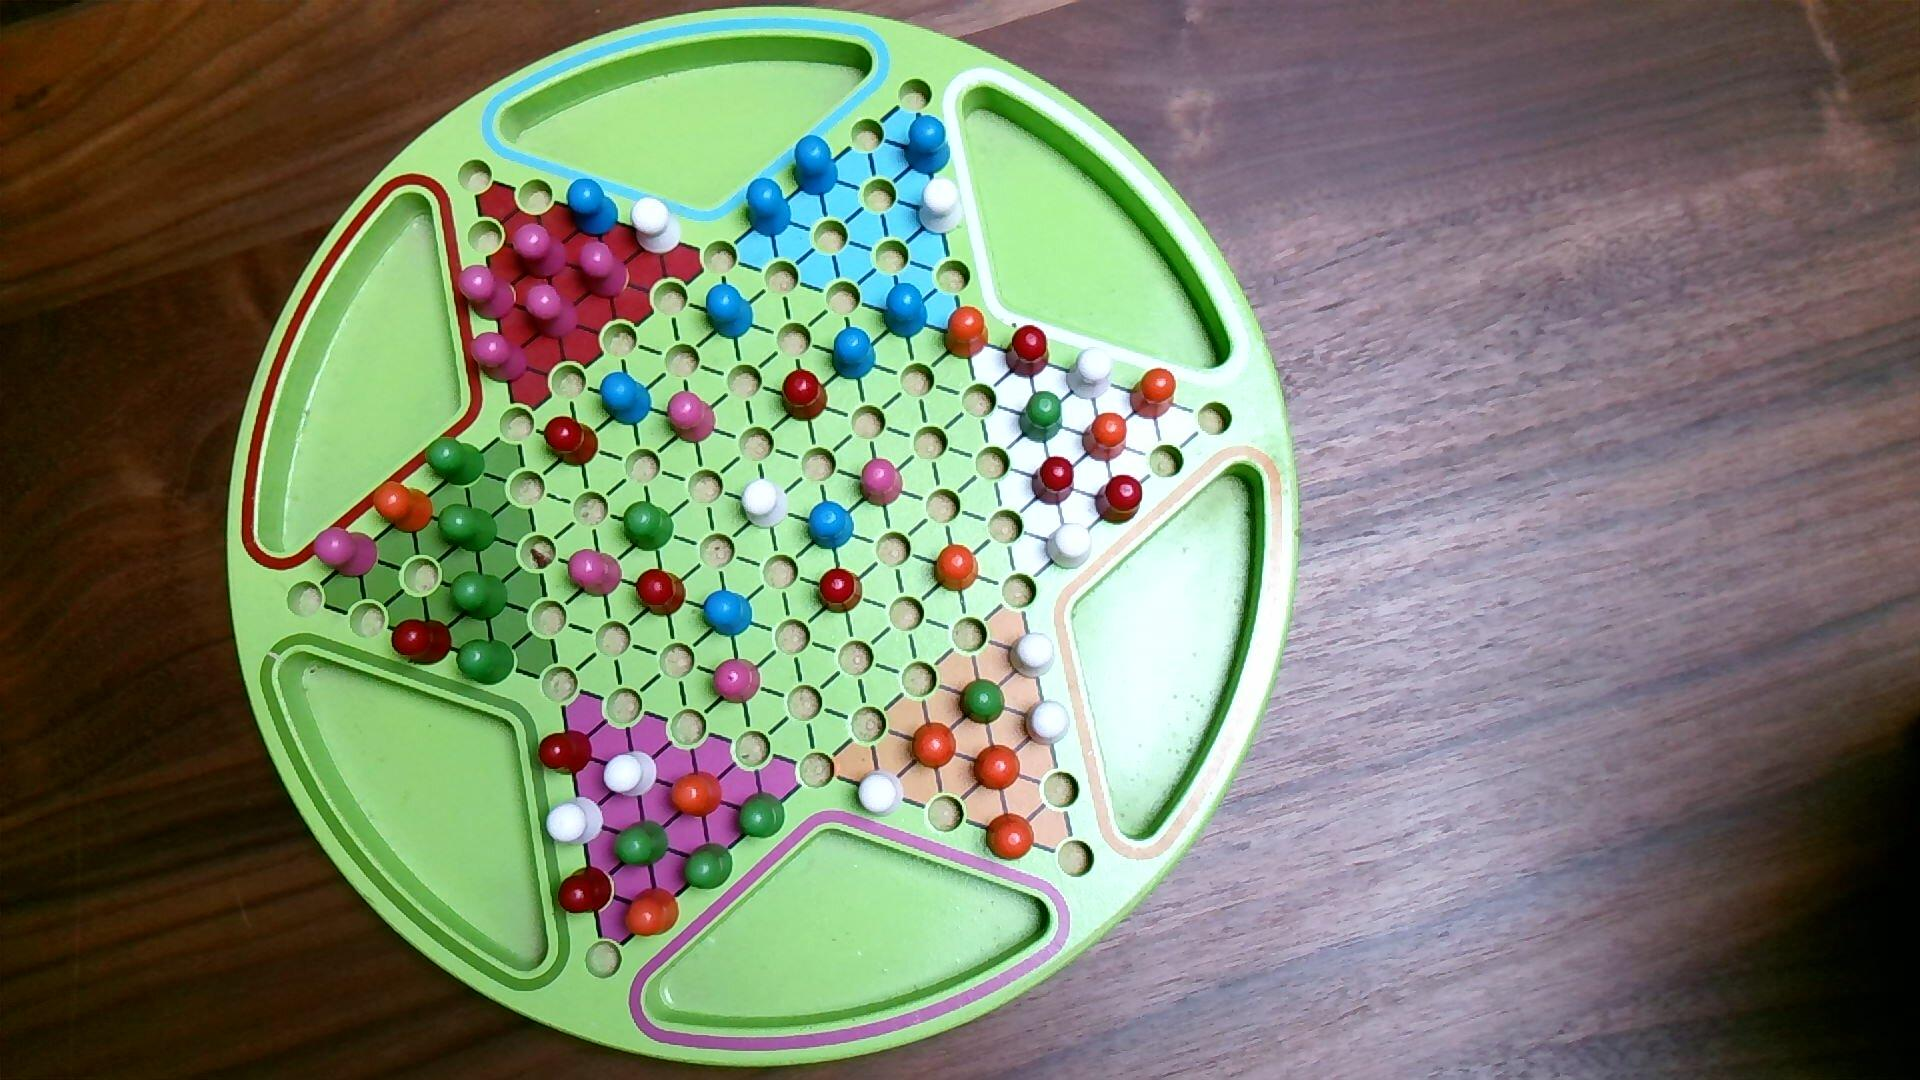B: (564, 177, 620, 239), (903, 113, 953, 178), (599, 371, 654, 429), (703, 282, 756, 342), (791, 135, 840, 198), (744, 177, 793, 240), (882, 282, 930, 342), (829, 326, 878, 382), (702, 589, 756, 640), (807, 498, 856, 553)
G: (436, 502, 500, 556), (423, 436, 488, 488), (611, 818, 673, 870), (448, 571, 510, 622), (455, 638, 518, 688), (620, 500, 676, 554), (1017, 390, 1065, 446), (680, 843, 735, 891), (736, 790, 787, 840), (957, 678, 1007, 727)
O: (371, 480, 436, 537), (621, 886, 682, 939), (942, 305, 992, 363), (669, 769, 724, 820), (1129, 367, 1178, 422), (984, 812, 1036, 862), (972, 742, 1022, 793), (910, 720, 959, 771), (932, 542, 981, 593), (1081, 411, 1129, 464)
R: (390, 618, 455, 669), (543, 415, 601, 469), (556, 864, 615, 916), (537, 728, 595, 778), (781, 367, 829, 425), (634, 567, 688, 618), (1095, 473, 1145, 527), (1004, 324, 1052, 380), (1030, 454, 1077, 506), (816, 566, 865, 616)
R2: (309, 526, 380, 582), (456, 264, 517, 323), (510, 222, 570, 281), (575, 240, 632, 302), (468, 331, 531, 386), (524, 284, 582, 342), (566, 547, 625, 600), (665, 390, 719, 446), (711, 658, 764, 707), (858, 458, 905, 510)
W: (629, 196, 684, 257), (546, 795, 605, 848), (918, 175, 965, 237), (1064, 345, 1116, 402), (601, 750, 659, 800), (738, 477, 791, 531), (855, 769, 907, 820), (1022, 699, 1073, 749), (1044, 522, 1095, 572), (1006, 632, 1058, 680)
